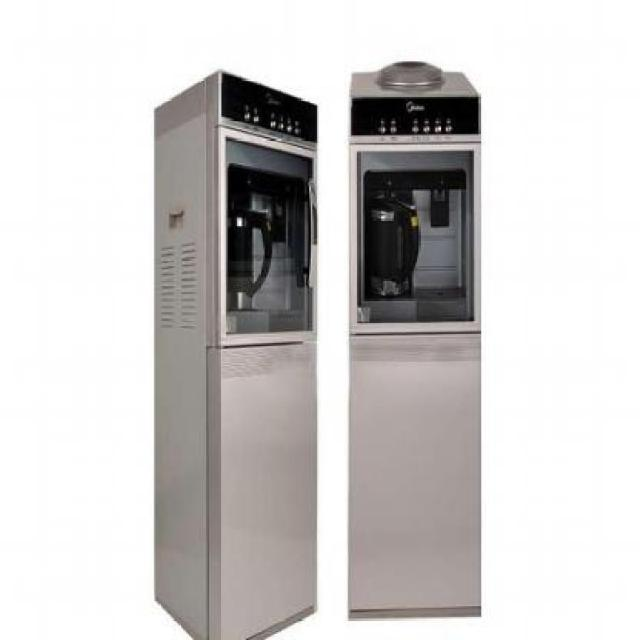cooler: (151, 64, 320, 640), (346, 60, 488, 621)
